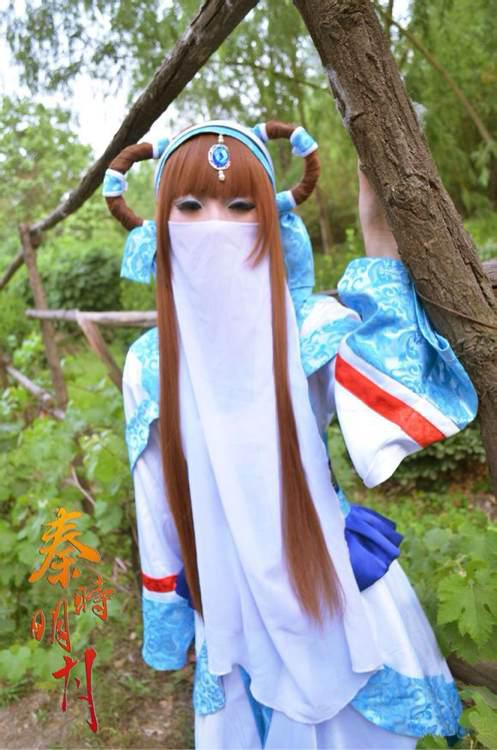OK: (171, 184, 262, 275)
